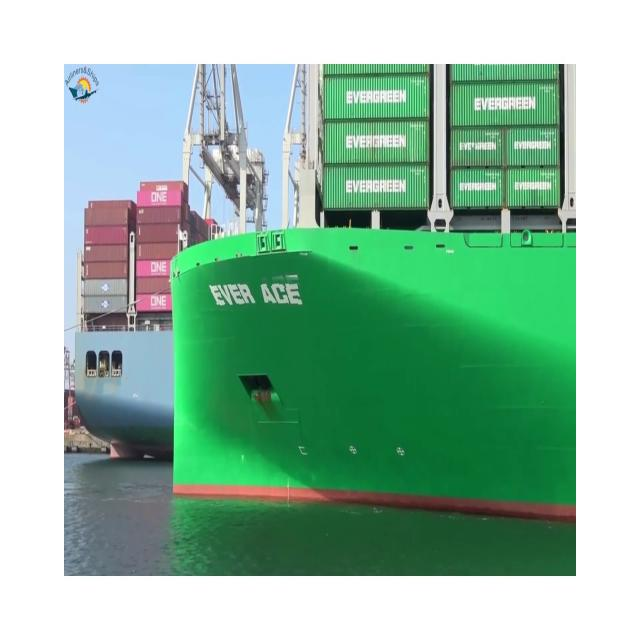OCR: (197, 268, 312, 316)
